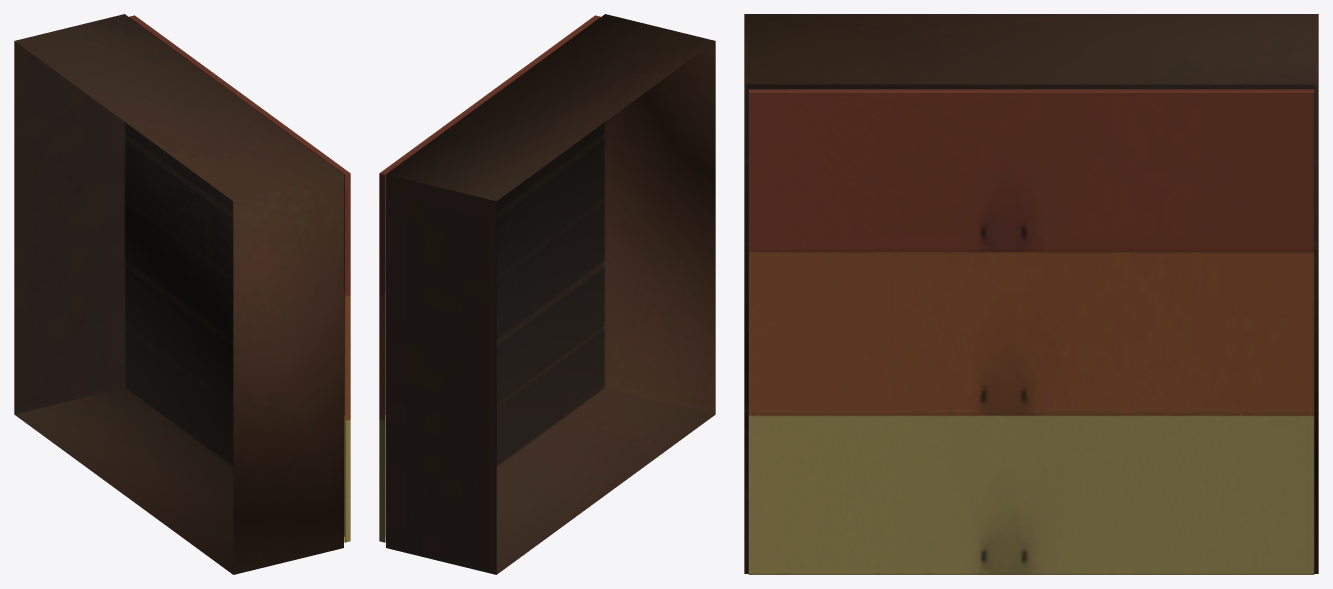
Rendered from nt_shelf_modern_LOD3.obj.
3 views of the same model, side by side, from view 1: azimuth 30°, elevation 25°; view 2: azimuth 150°, elevation 25°; view 3: azimuth 270°, elevation 25° (orthographic). The views are drawn at different scales.
Parts seen in each view (by area): view 1: mtl_nt_shelf_modern; view 2: mtl_nt_shelf_modern; view 3: mtl_nt_shelf_modern.
Boxes of the visible parts, x1,y1,x2,y2 form: mtl_nt_shelf_modern: [14, 14, 350, 574]; mtl_nt_shelf_modern: [379, 14, 715, 574]; mtl_nt_shelf_modern: [744, 14, 1318, 574].
Size of the model in its own units: 53.3 by 160 by 170.
